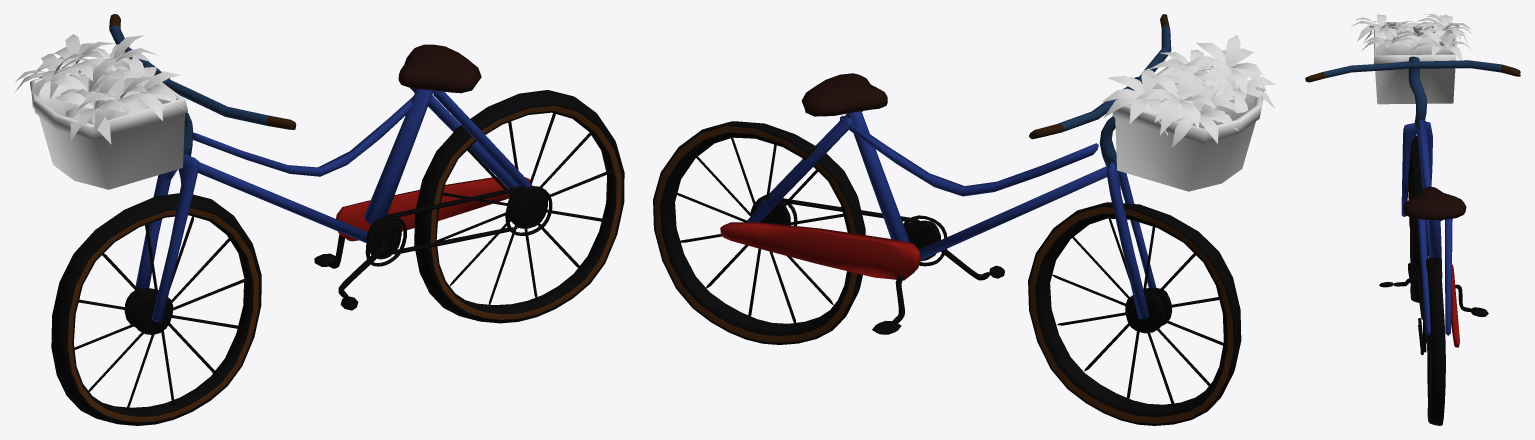
The model's file is Bike_b.fbx.
3 renders of one model, left to right at view 1: azimuth 30°, elevation 25°; view 2: azimuth 150°, elevation 25°; view 3: azimuth 270°, elevation 25°, orthographic. The views are drawn at different scales.
Parts seen in each view (by area): view 1: Bike.008, planter014.001, planter022, planter022.007, planter022.006, planter022.004, planter022.005, planter022.002, planter022.003; view 2: Bike.008, planter014.001, planter022.002, planter022.006, planter022.007, planter022.003, planter022, planter022.004; view 3: Bike.008, planter014.001, planter022.003, planter022.004, planter022.007, planter022.006, planter022.002, planter022, planter022.005.
Boxes of the visible parts, x1,y1,x2,y2 form: Bike.008: [51, 14, 624, 425]; planter014.001: [29, 54, 187, 189]; planter022: [55, 75, 132, 144]; planter022.007: [77, 69, 165, 134]; planter022.006: [34, 34, 116, 99]; planter022.004: [104, 55, 184, 120]; planter022.005: [50, 58, 118, 113]; planter022.002: [15, 53, 93, 108]; planter022.003: [78, 35, 157, 72]; Bike.008: [653, 14, 1241, 425]; planter014.001: [1112, 66, 1264, 191]; planter022.002: [1155, 75, 1238, 147]; planter022.006: [1135, 67, 1219, 135]; planter022.007: [1183, 35, 1266, 95]; planter022.003: [1101, 68, 1179, 135]; planter022: [1198, 60, 1276, 112]; planter022.004: [1149, 49, 1216, 92]; Bike.008: [1305, 56, 1520, 425]; planter014.001: [1374, 23, 1456, 104]; planter022.003: [1410, 30, 1472, 60]; planter022.004: [1362, 27, 1421, 63]; planter022.007: [1351, 14, 1405, 41]; planter022.006: [1416, 15, 1473, 38]; planter022.002: [1417, 14, 1471, 45]; planter022: [1363, 21, 1414, 43]; planter022.005: [1395, 25, 1435, 39].
Size of the model in its own units: 1.76 by 0.8112 by 1.06.
